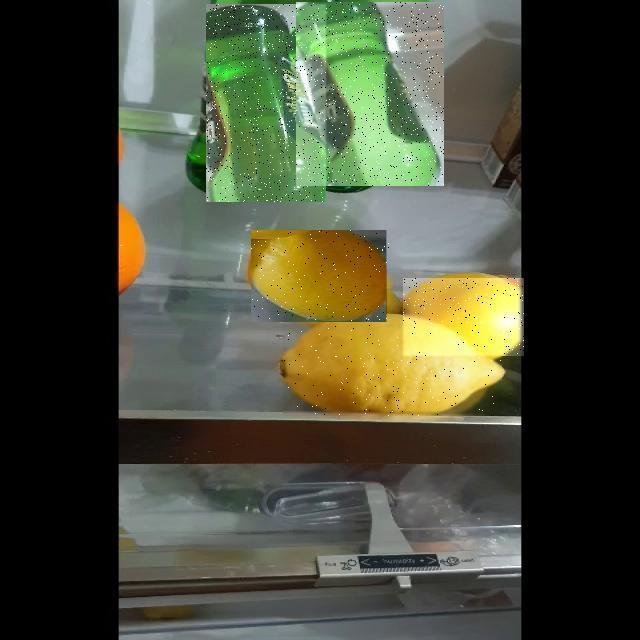Lemon: (283, 324, 502, 416), (252, 230, 390, 322), (403, 278, 524, 356)
Water: (296, 2, 444, 186), (206, 4, 326, 202)
